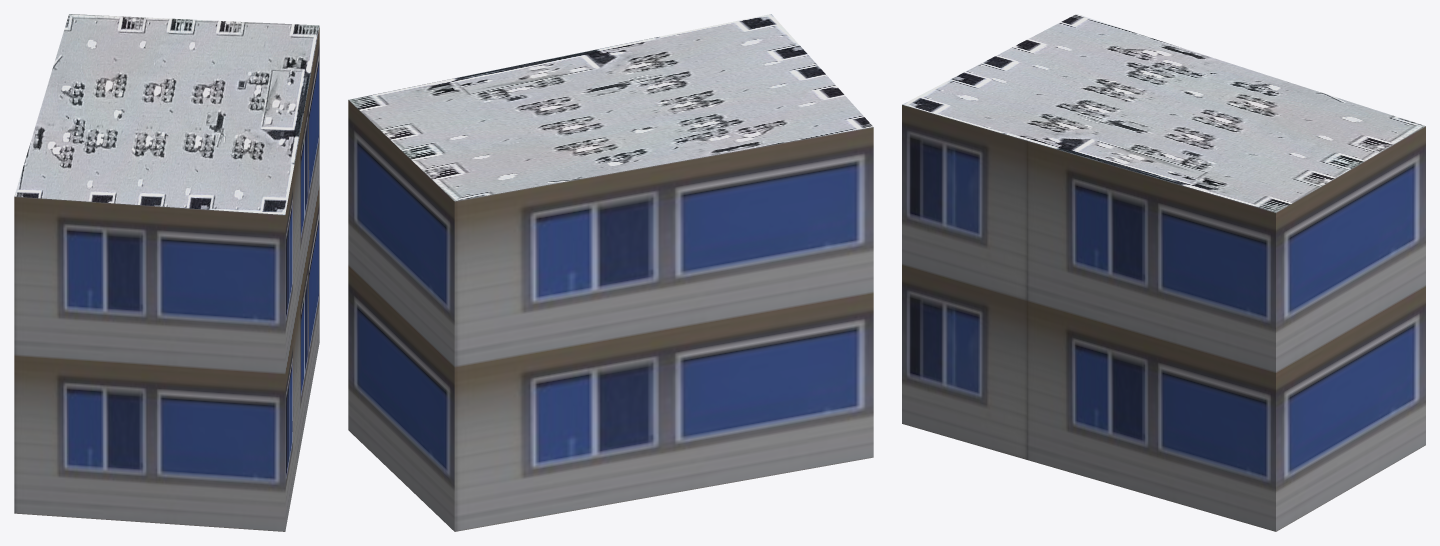
The model's file is ResTex__318.fbx.
3 views of the same model, side by side, from view 1: azimuth 30°, elevation 25°; view 2: azimuth 150°, elevation 25°; view 3: azimuth 270°, elevation 25° (orthographic). The views are drawn at different scales.
Visible parts, largest first — view 1: CityEngineMaterial_23_m, CityEngineMaterial_m; view 2: CityEngineMaterial_23_m, CityEngineMaterial_m; view 3: CityEngineMaterial_23_m, CityEngineMaterial_m.
Boxes of the visible parts, box(x1,y1,x2,y2) form: CityEngineMaterial_23_m: box(14, 26, 319, 531); CityEngineMaterial_m: box(14, 14, 319, 214); CityEngineMaterial_23_m: box(348, 100, 873, 531); CityEngineMaterial_m: box(349, 14, 872, 201); CityEngineMaterial_23_m: box(902, 104, 1425, 531); CityEngineMaterial_m: box(902, 14, 1425, 212).
Bounding box in the file's own units: 8.01 × 6 × 8.92.
Materials: 2 (2 with a texture image).
